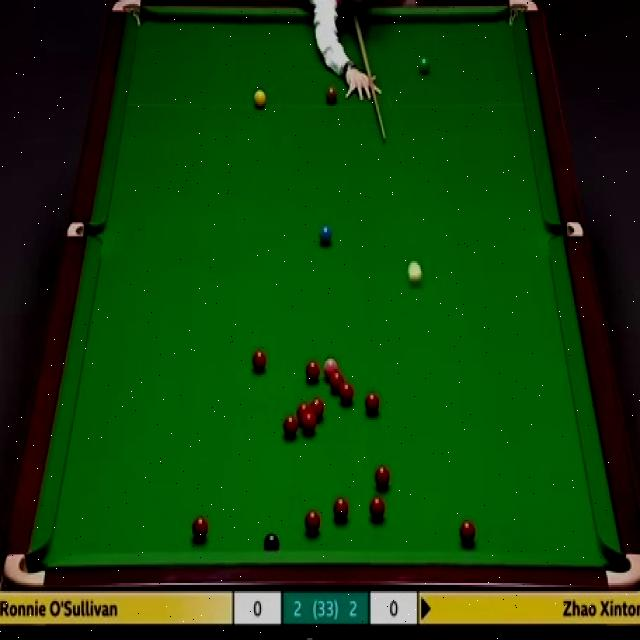black-ball: (263, 530, 280, 554)
blue-ball: (319, 225, 333, 245)
brown-ball: (324, 85, 337, 104)
green-ball: (412, 56, 427, 78)
pink-ball: (323, 354, 338, 378)
red-ball: (368, 494, 386, 522), (373, 463, 391, 490), (459, 518, 476, 545), (333, 494, 350, 521), (303, 510, 322, 534), (191, 514, 208, 539), (250, 347, 266, 372), (339, 382, 354, 408), (282, 413, 298, 437), (305, 358, 320, 382), (365, 390, 380, 414), (311, 396, 326, 419), (302, 409, 316, 433), (328, 370, 344, 390), (297, 401, 311, 419)
white-ball: (407, 257, 423, 286)
yellow-ball: (253, 85, 266, 108)
